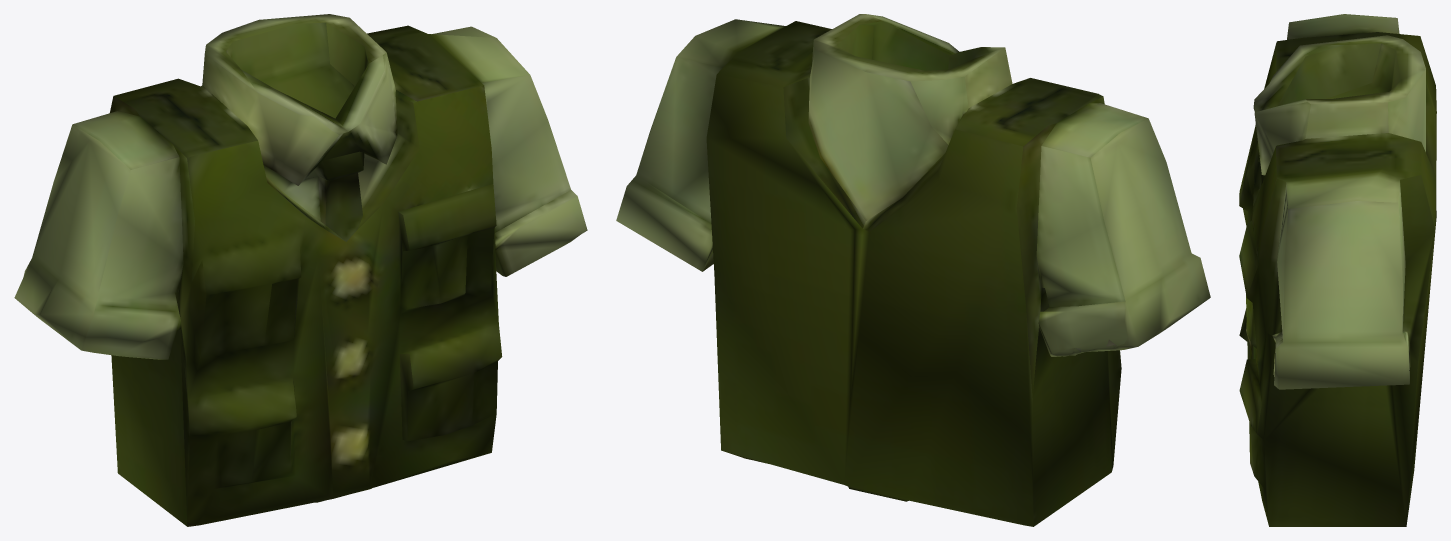
Rendered from costume-military.glb.
The picture shows the model from 3 angles, left to right: view 1: azimuth 30°, elevation 25°; view 2: azimuth 150°, elevation 25°; view 3: azimuth 270°, elevation 25°; orthographic projection. The views are drawn at different scales.
Parts seen in each view (by area): view 1: material.001; view 2: material.001; view 3: material.001.
Boxes of the visible parts, x1,y1,x2,y2 form: material.001: (14,14,587,526); material.001: (616,14,1210,526); material.001: (1239,14,1436,526).
Size of the model in its own units: 0.6496 by 0.5061 by 0.2312.
Materials: 1 (1 with a texture image).
